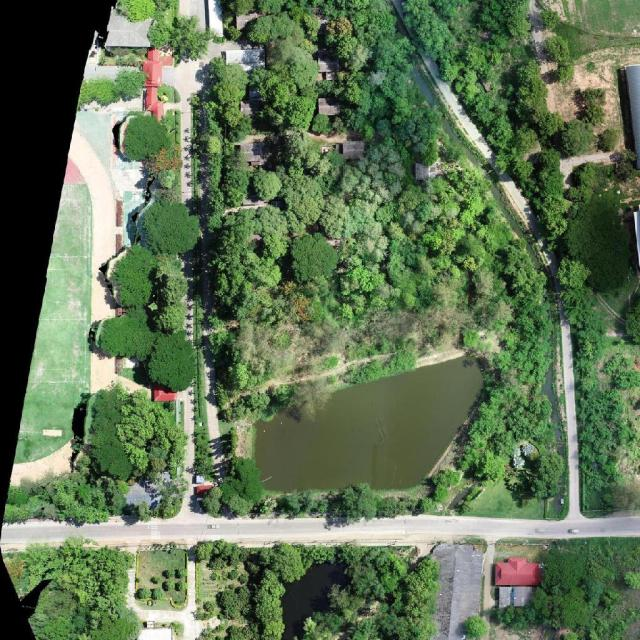building: (178, 0, 206, 29)
